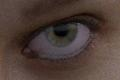eye: (44, 21, 79, 48)
